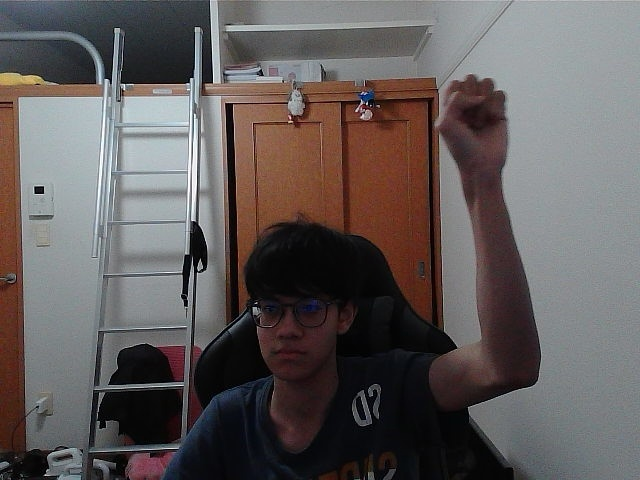closed_palm: (447, 80, 499, 167)
